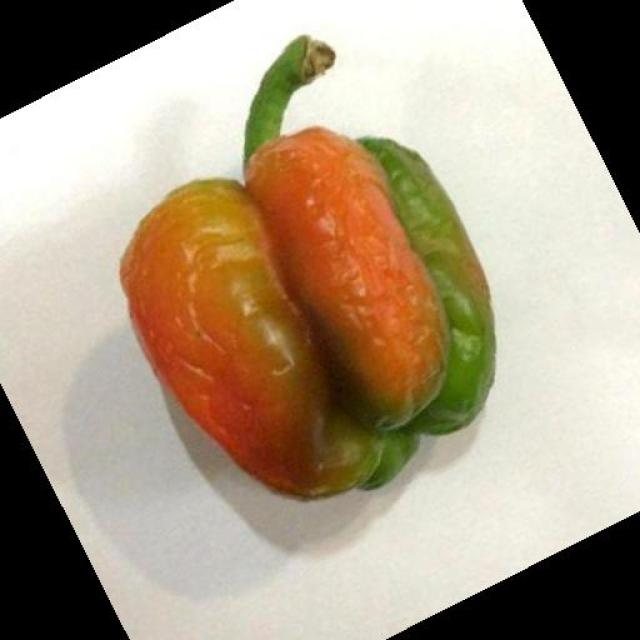Stale_Capsicum: (114, 106, 553, 479)
